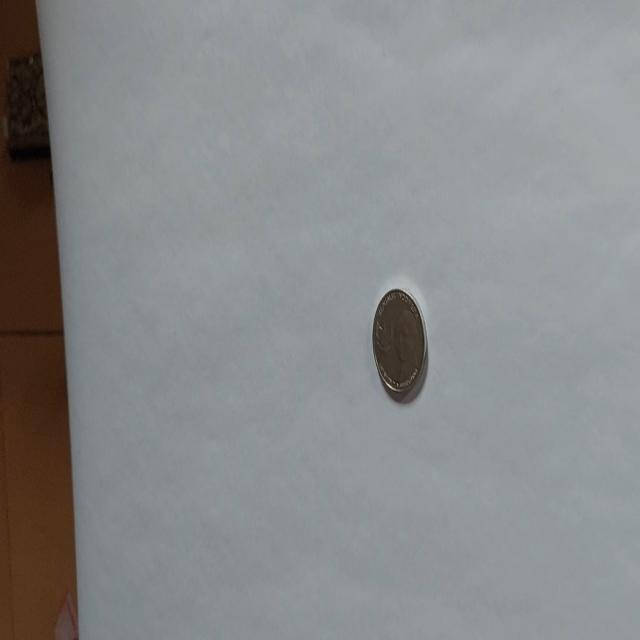lima ratus rupiah: (370, 285, 428, 403)
